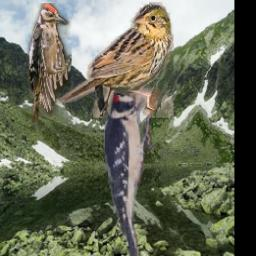Sparrow: (60, 3, 175, 119)
Woodpecker: (102, 82, 156, 256), (28, 4, 73, 124)
